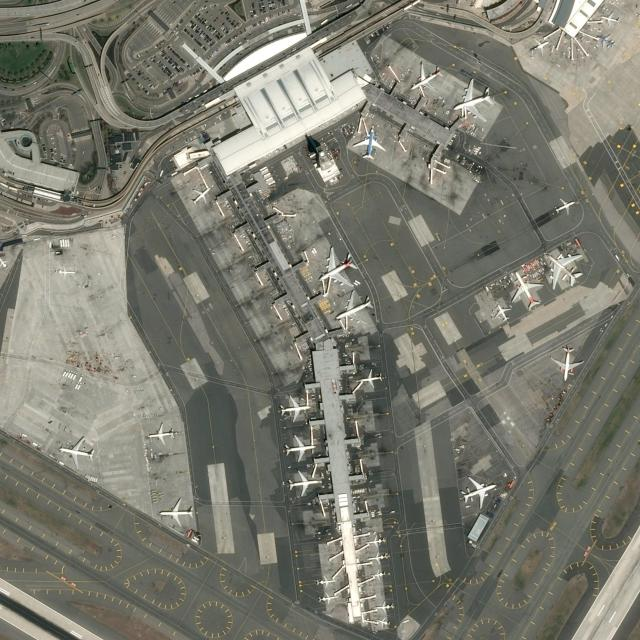1: (0, 256, 8, 270)
aircraft: (452, 76, 495, 122), (316, 244, 360, 288), (544, 248, 584, 290), (334, 287, 375, 326), (508, 269, 543, 310), (545, 346, 585, 380), (458, 474, 496, 508), (156, 495, 194, 528), (56, 435, 95, 467), (351, 125, 386, 160), (408, 60, 444, 94), (281, 432, 318, 463), (286, 467, 321, 498), (277, 393, 311, 423), (145, 422, 177, 446), (354, 366, 384, 390), (490, 300, 512, 322), (188, 184, 212, 204), (368, 612, 394, 630), (553, 195, 575, 216), (364, 530, 387, 550), (362, 550, 390, 566), (530, 34, 550, 56), (312, 573, 338, 589), (315, 589, 339, 606), (53, 263, 76, 280), (370, 598, 394, 614), (367, 566, 387, 583), (598, 10, 620, 25), (596, 32, 616, 48)
